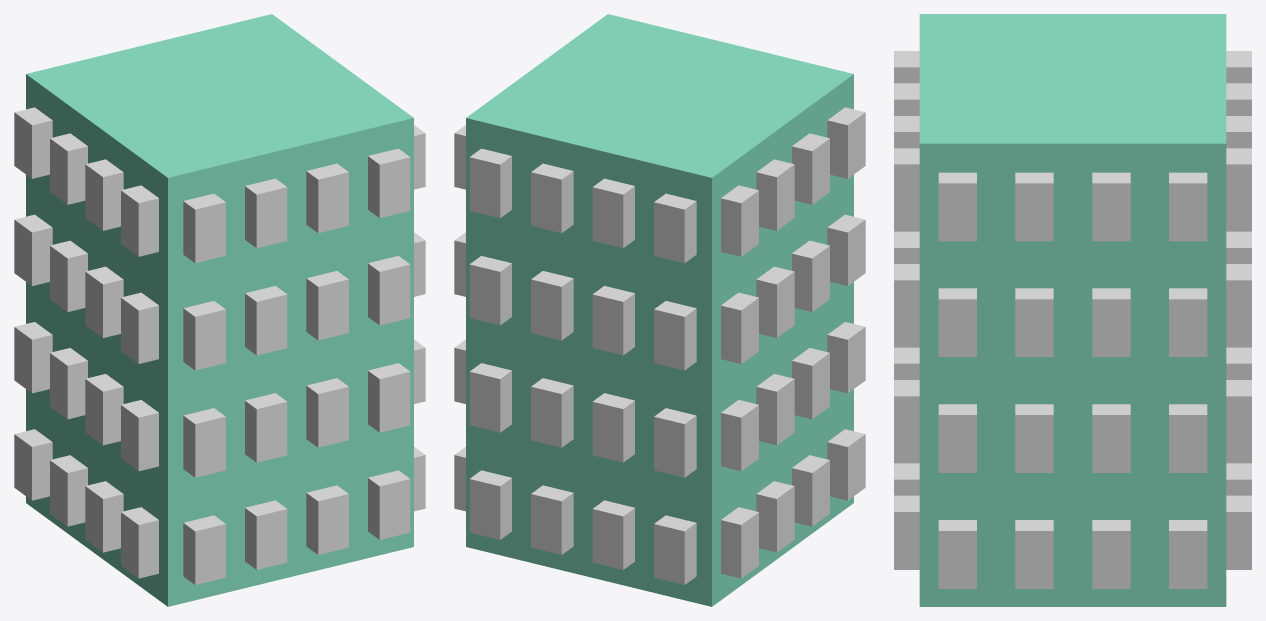
File: Skyscraper 1.fbx
The picture shows the model from 3 angles, left to right: view 1: azimuth 30°, elevation 25°; view 2: azimuth 150°, elevation 25°; view 3: azimuth 270°, elevation 25°; orthographic projection. The views are drawn at different scales.
Parts seen in each view (by area): view 1: Cube, Cube.004, Cube.005; view 2: Cube, Cube.004, Cube.005; view 3: Cube, Cube.005, Cube.004.
Part boxes in pixels (box(x1,y1,x2,y2)): Cube: box(26, 14, 413, 606); Cube.004: box(183, 148, 410, 584); Cube.005: box(14, 107, 425, 578); Cube: box(466, 14, 853, 606); Cube.004: box(469, 148, 696, 584); Cube.005: box(454, 107, 865, 578); Cube: box(919, 14, 1226, 606); Cube.005: box(938, 172, 1207, 588); Cube.004: box(894, 51, 1251, 569).
Bounding box in the file's own units: 213 × 305 × 213.
